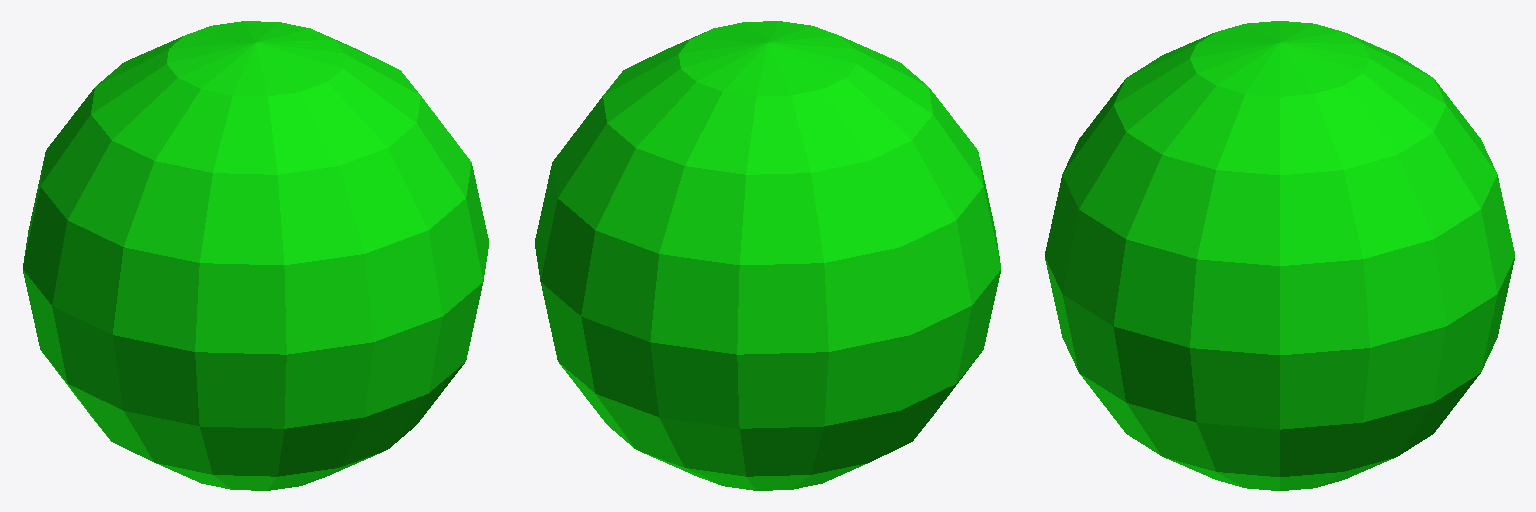
File: ballgreen.obj
3 views of the same model, side by side, from view 1: azimuth 30°, elevation 25°; view 2: azimuth 150°, elevation 25°; view 3: azimuth 270°, elevation 25° (orthographic).
Parts seen in each view (by area): view 1: Sphere; view 2: Sphere; view 3: Sphere.
Part boxes in pixels (x1,y1,x2,y2): Sphere: (23, 21, 488, 490); Sphere: (535, 21, 1000, 490); Sphere: (1045, 21, 1514, 490).
Size of the model in its own units: 2 by 2 by 2.